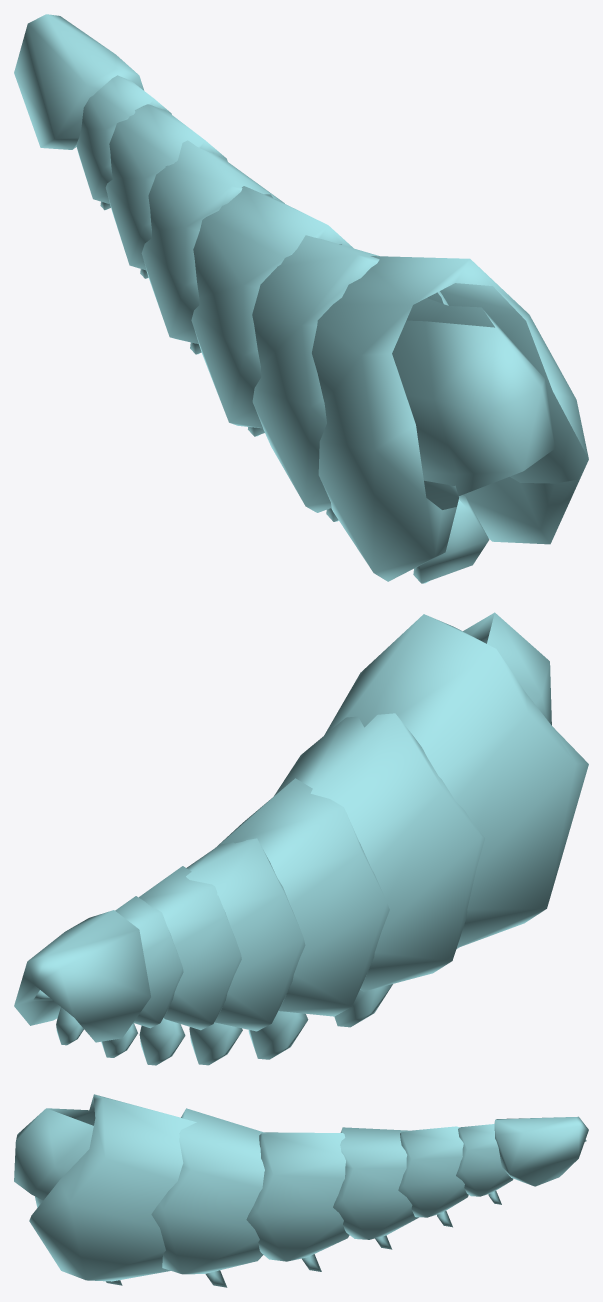
File: Shrimp_Tail_Cherry_LOD2.fbx
3 renders of one model, top to bottom at view 1: azimuth 30°, elevation 25°; view 2: azimuth 150°, elevation 25°; view 3: azimuth 270°, elevation 25°, orthographic. The views are drawn at different scales.
Visible parts, largest first — view 1: Ch.Tail_low.001_LOD2, Ch.guts_low_LOD2, Ch.Tail_low.002_LOD2, Ch.Tail_low.003_LOD2, Ch.Tail_low.004_LOD2, Ch.Tail_end_low_LOD2, Ch.Tail_low.005_LOD2, Ch.Tail_low.006_LOD2, Ch.swimeret_low.001_LOD2; view 2: Ch.Tail_low.001_LOD2, Ch.Tail_low.002_LOD2, Ch.Tail_low.003_LOD2, Ch.Tail_low.004_LOD2, Ch.Tail_end_low_LOD2, Ch.Tail_low.005_LOD2, Ch.Tail_low.006_LOD2, Ch.guts_low_LOD2, Ch.swimeret_low.003_LOD2, Ch.swimeret_low.004_LOD2, Ch.swimeret_low.005_LOD2, Ch.swimeret_low.002_LOD2 (+2 smaller); view 3: Ch.Tail_low.001_LOD2, Ch.Tail_low.002_LOD2, Ch.Tail_low.003_LOD2, Ch.Tail_low.004_LOD2, Ch.guts_low_LOD2, Ch.Tail_end_low_LOD2, Ch.Tail_low.005_LOD2, Ch.Tail_low.006_LOD2.
Boxes of the visible parts, x1,y1,x2,y2 form: Ch.Tail_low.001_LOD2: (312, 256, 588, 581); Ch.guts_low_LOD2: (392, 298, 555, 495); Ch.Tail_low.002_LOD2: (252, 235, 448, 512); Ch.Tail_low.003_LOD2: (191, 186, 353, 428); Ch.Tail_low.004_LOD2: (141, 140, 284, 344); Ch.Tail_end_low_LOD2: (14, 14, 144, 149); Ch.Tail_low.005_LOD2: (105, 104, 227, 270); Ch.Tail_low.006_LOD2: (76, 75, 171, 204); Ch.swimeret_low.001_LOD2: (413, 495, 489, 583); Ch.Tail_low.001_LOD2: (324, 614, 588, 947); Ch.Tail_low.002_LOD2: (274, 713, 484, 991); Ch.Tail_low.003_LOD2: (215, 778, 389, 1016); Ch.Tail_low.004_LOD2: (186, 838, 305, 1031); Ch.Tail_end_low_LOD2: (14, 910, 150, 1042); Ch.Tail_low.005_LOD2: (139, 866, 241, 1030); Ch.Tail_low.006_LOD2: (115, 896, 183, 1028); Ch.guts_low_LOD2: (33, 612, 551, 1000); Ch.swimeret_low.003_LOD2: (248, 1010, 308, 1059); Ch.swimeret_low.004_LOD2: (189, 1022, 242, 1065); Ch.swimeret_low.005_LOD2: (139, 1018, 185, 1065); Ch.swimeret_low.002_LOD2: (334, 984, 392, 1027); Ch.Tail_low.001_LOD2: (29, 1094, 196, 1281); Ch.Tail_low.002_LOD2: (151, 1108, 266, 1274); Ch.Tail_low.003_LOD2: (246, 1132, 349, 1261); Ch.Tail_low.004_LOD2: (333, 1127, 418, 1239); Ch.guts_low_LOD2: (14, 1108, 586, 1200); Ch.Tail_end_low_LOD2: (494, 1116, 588, 1186); Ch.Tail_low.005_LOD2: (398, 1126, 468, 1217); Ch.Tail_low.006_LOD2: (456, 1124, 513, 1196).
Size of the model in its own units: 34.05 by 53.32 by 142.
